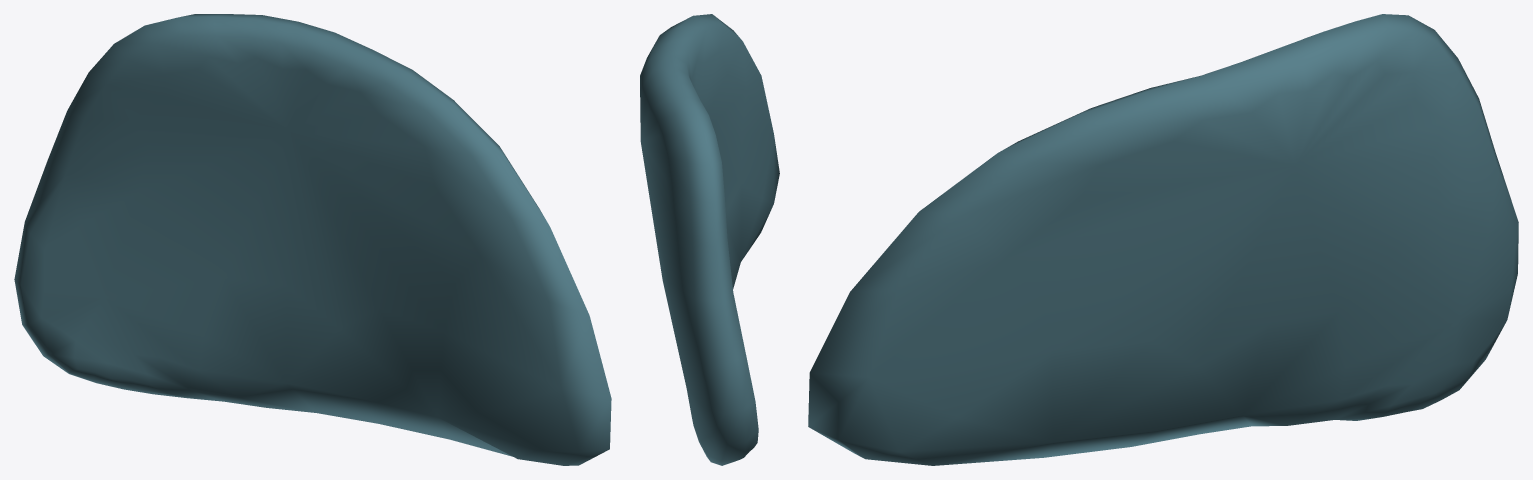
Rendered from Flexor_hallucis_brevis_1st_metatarsal_bone_left.glb.
The picture shows the model from 3 angles, left to right: view 1: azimuth 30°, elevation 25°; view 2: azimuth 150°, elevation 25°; view 3: azimuth 270°, elevation 25°; orthographic projection. The views are drawn at different scales.
Parts seen in each view (by area): view 1: Lateral_head_of_flexor_hallucis_brevis_on_1st_metatarsal_bon; view 2: Lateral_head_of_flexor_hallucis_brevis_on_1st_metatarsal_bon; view 3: Lateral_head_of_flexor_hallucis_brevis_on_1st_metatarsal_bon.
Boxes of the visible parts, <box> form: Lateral_head_of_flexor_hallucis_brevis_on_1st_metatarsal_bon: <box>14,14,611,465</box>; Lateral_head_of_flexor_hallucis_brevis_on_1st_metatarsal_bon: <box>640,14,779,465</box>; Lateral_head_of_flexor_hallucis_brevis_on_1st_metatarsal_bon: <box>808,14,1518,465</box>.
Size of the model in its own units: 0.00275 by 0.00332 by 0.00508.
